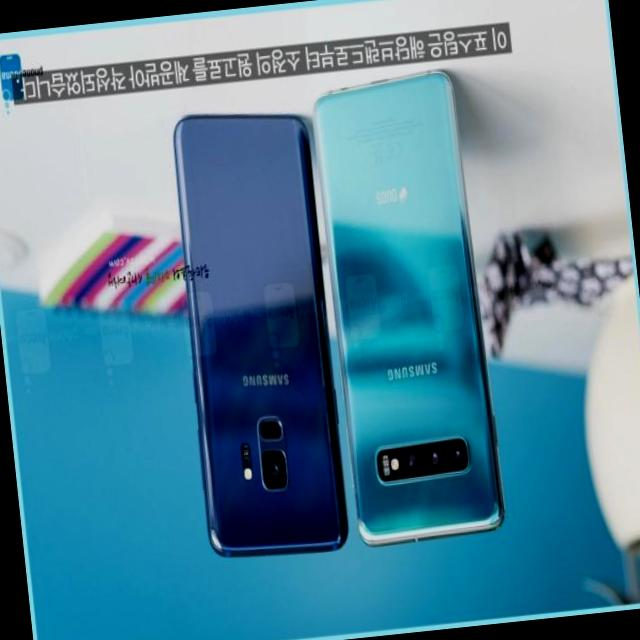lens_back: (259, 451, 287, 487), (442, 441, 468, 466), (399, 448, 422, 472), (421, 444, 443, 468)
phone: (304, 70, 506, 548), (156, 101, 352, 568)
